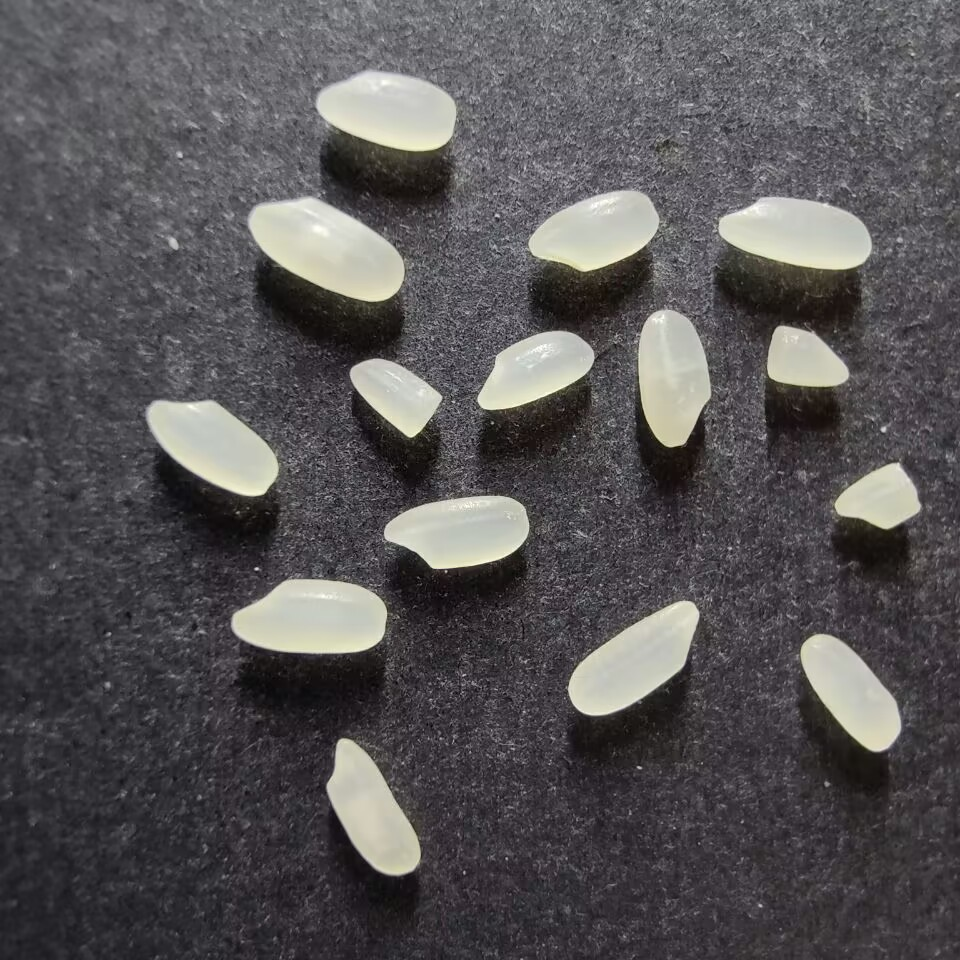broken: (349, 357, 442, 438), (833, 463, 921, 530), (765, 324, 849, 387)
rice: (247, 197, 404, 302), (567, 599, 700, 716), (325, 737, 421, 876), (146, 399, 279, 496), (230, 577, 386, 655), (799, 633, 901, 752), (717, 196, 872, 270), (315, 70, 456, 151), (382, 495, 530, 570), (527, 189, 659, 272), (637, 308, 711, 447), (476, 329, 595, 411)
